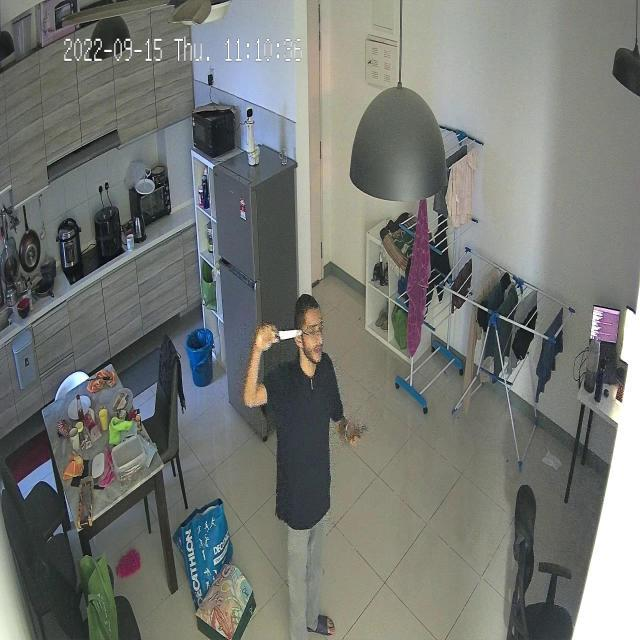Knife: (260, 319, 308, 344)
